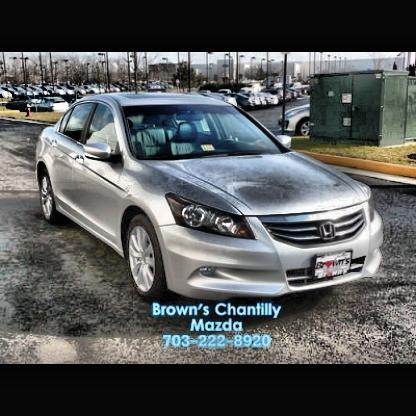Honda Accord Sedan 2012: (35, 94, 389, 305)
